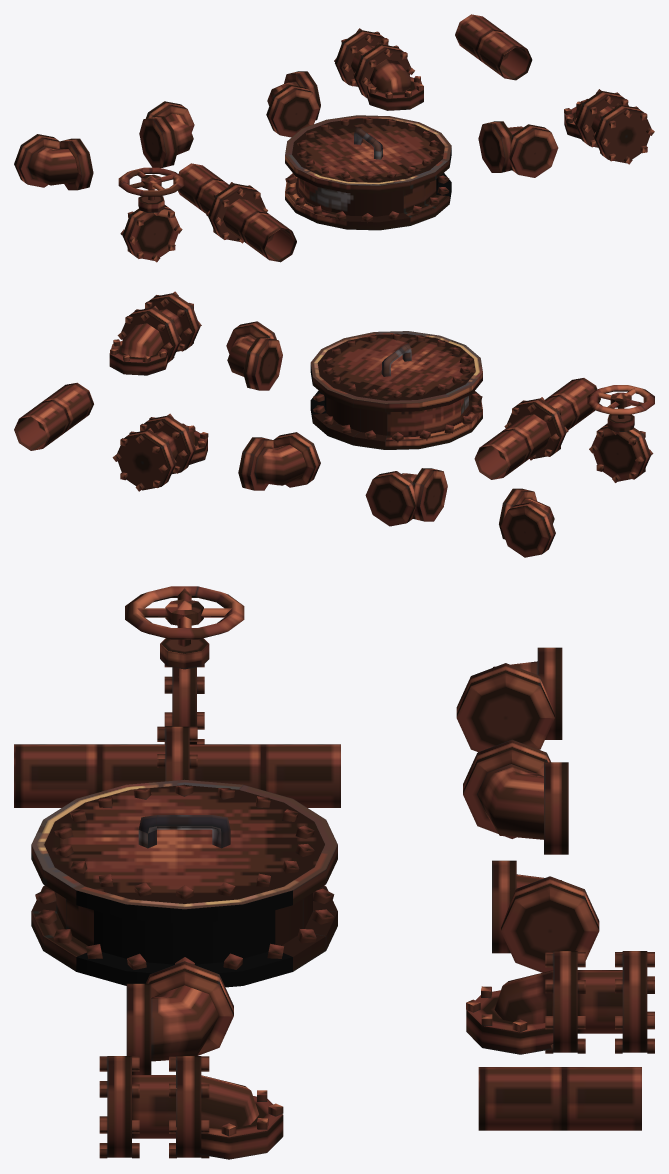
The model's file is EnvMdrMD_Factory_A_Grd_Duct_A_End.FBX.
3 renders of one model, top to bottom at view 1: azimuth 30°, elevation 25°; view 2: azimuth 150°, elevation 25°; view 3: azimuth 270°, elevation 25°, orthographic. The views are drawn at different scales.
Parts seen in each view (by area): view 1: EnvMdrMD_Factory_A_Grd_Duct_A_Post, EnvMdrMD_Factory_A_Grd_Duct_A_Loop, EnvMdrMD_Factory_A_Grd_Duct_A_End, EnvMdrMD_Factory_A_Grd_Duct_A_Start, EnvMdrMD_Factory_A_Grd_Duct_A_Valve, EnvMdrMD_Factory_A_Grd_Duct_A_SL_LB, EnvMdrMD_Factory_A_Grd_Duct_A_SL_RF, EnvMdrMD_Factory_A_Grd_Duct_A_Loop_B, EnvMdrMD_Factory_A_Grd_Duct_A_SL_RB, EnvMdrMD_Factory_A_Grd_Duct_A_SL_LF; view 2: EnvMdrMD_Factory_A_Grd_Duct_A_Post, EnvMdrMD_Factory_A_Grd_Duct_A_Loop, EnvMdrMD_Factory_A_Grd_Duct_A_Start, EnvMdrMD_Factory_A_Grd_Duct_A_End, EnvMdrMD_Factory_A_Grd_Duct_A_Valve, EnvMdrMD_Factory_A_Grd_Duct_A_SL_LF, EnvMdrMD_Factory_A_Grd_Duct_A_SL_RB, EnvMdrMD_Factory_A_Grd_Duct_A_Loop_B, EnvMdrMD_Factory_A_Grd_Duct_A_SL_RF, EnvMdrMD_Factory_A_Grd_Duct_A_SL_LB; view 3: EnvMdrMD_Factory_A_Grd_Duct_A_Post, EnvMdrMD_Factory_A_Grd_Duct_A_Loop, EnvMdrMD_Factory_A_Grd_Duct_A_End, EnvMdrMD_Factory_A_Grd_Duct_A_Start, EnvMdrMD_Factory_A_Grd_Duct_A_Loop_B, EnvMdrMD_Factory_A_Grd_Duct_A_SL_RB, EnvMdrMD_Factory_A_Grd_Duct_A_SL_LB, EnvMdrMD_Factory_A_Grd_Duct_A_SL_LF, EnvMdrMD_Factory_A_Grd_Duct_A_SL_RF, EnvMdrMD_Factory_A_Grd_Duct_A_Valve.
Part boxes in pixels (x1,y1,x2,y2): EnvMdrMD_Factory_A_Grd_Duct_A_Post: (285, 115, 451, 230); EnvMdrMD_Factory_A_Grd_Duct_A_Loop: (178, 163, 296, 262); EnvMdrMD_Factory_A_Grd_Duct_A_End: (334, 28, 423, 110); EnvMdrMD_Factory_A_Grd_Duct_A_Start: (564, 89, 654, 164); EnvMdrMD_Factory_A_Grd_Duct_A_Valve: (118, 167, 184, 262); EnvMdrMD_Factory_A_Grd_Duct_A_SL_LB: (478, 121, 558, 177); EnvMdrMD_Factory_A_Grd_Duct_A_SL_RF: (14, 134, 93, 190); EnvMdrMD_Factory_A_Grd_Duct_A_Loop_B: (455, 14, 532, 80); EnvMdrMD_Factory_A_Grd_Duct_A_SL_RB: (139, 101, 194, 167); EnvMdrMD_Factory_A_Grd_Duct_A_SL_LF: (266, 71, 320, 137); EnvMdrMD_Factory_A_Grd_Duct_A_Post: (310, 331, 482, 449); EnvMdrMD_Factory_A_Grd_Duct_A_Loop: (474, 378, 600, 479); EnvMdrMD_Factory_A_Grd_Duct_A_Start: (109, 291, 201, 375); EnvMdrMD_Factory_A_Grd_Duct_A_End: (112, 413, 208, 491); EnvMdrMD_Factory_A_Grd_Duct_A_Valve: (587, 385, 654, 482); EnvMdrMD_Factory_A_Grd_Duct_A_SL_LF: (238, 432, 320, 490); EnvMdrMD_Factory_A_Grd_Duct_A_SL_RB: (365, 468, 447, 526); EnvMdrMD_Factory_A_Grd_Duct_A_Loop_B: (14, 382, 93, 450); EnvMdrMD_Factory_A_Grd_Duct_A_SL_RF: (499, 488, 555, 557); EnvMdrMD_Factory_A_Grd_Duct_A_SL_LB: (226, 321, 282, 390); EnvMdrMD_Factory_A_Grd_Duct_A_Post: (31, 779, 337, 987); EnvMdrMD_Factory_A_Grd_Duct_A_Loop: (14, 726, 340, 807); EnvMdrMD_Factory_A_Grd_Duct_A_End: (466, 951, 654, 1054); EnvMdrMD_Factory_A_Grd_Duct_A_Start: (99, 1056, 283, 1159); EnvMdrMD_Factory_A_Grd_Duct_A_Loop_B: (478, 1067, 641, 1130); EnvMdrMD_Factory_A_Grd_Duct_A_SL_RB: (463, 739, 568, 854); EnvMdrMD_Factory_A_Grd_Duct_A_SL_LB: (126, 961, 233, 1074); EnvMdrMD_Factory_A_Grd_Duct_A_SL_LF: (492, 860, 599, 972); EnvMdrMD_Factory_A_Grd_Duct_A_SL_RF: (456, 647, 562, 752); EnvMdrMD_Factory_A_Grd_Duct_A_Valve: (125, 586, 244, 744).
Size of the model in its own units: 662 by 102 by 392.
1 material, 1 textured.
